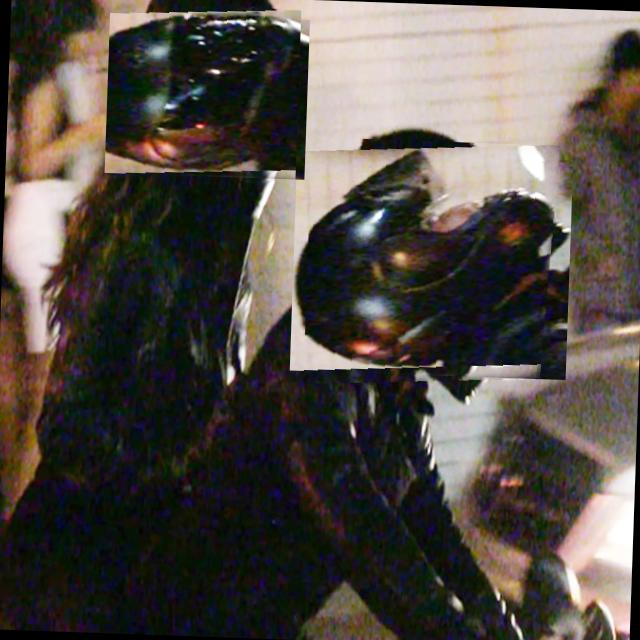Helmet: (303, 136, 560, 394), (114, 3, 301, 189)
